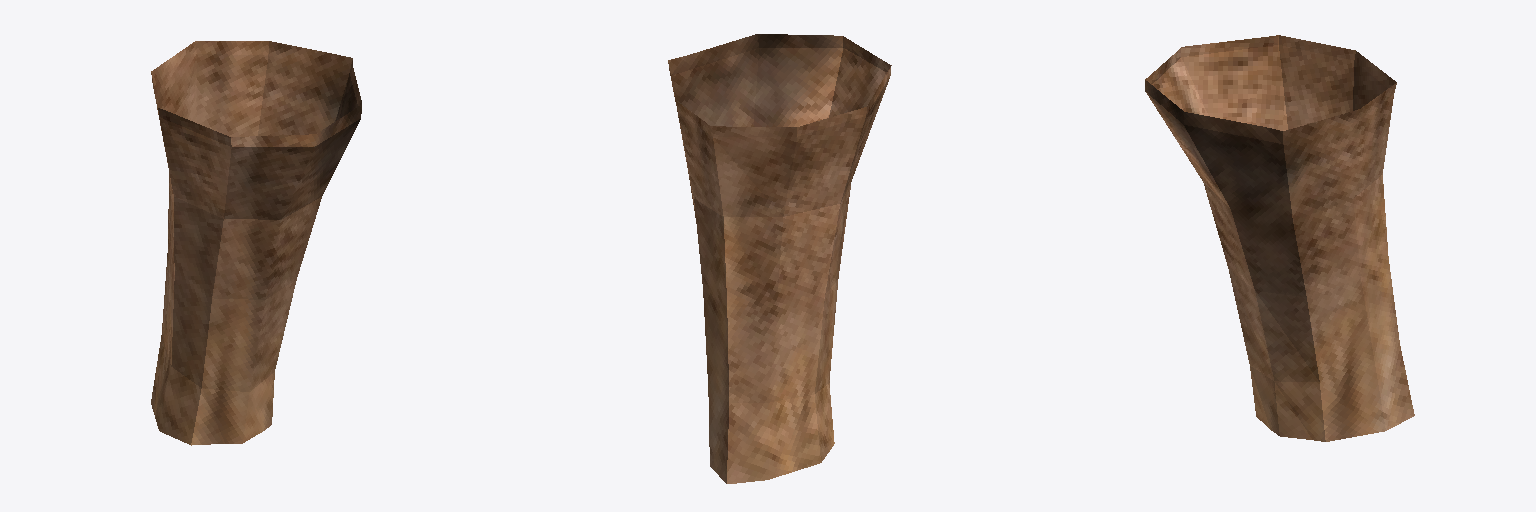
The picture shows the model from 3 angles: view 1: azimuth 30°, elevation 25°; view 2: azimuth 150°, elevation 25°; view 3: azimuth 270°, elevation 25°; orthographic projection.
Visible parts, largest first — view 1: TL_Rodilla; view 2: TL_Rodilla; view 3: TL_Rodilla.
Boxes of the visible parts, box(x1,y1,x2,y2) form: TL_Rodilla: box(151, 41, 361, 445); TL_Rodilla: box(668, 34, 891, 483); TL_Rodilla: box(1145, 35, 1414, 441).
Size of the model in its own units: 0.244 by 0.4092 by 0.2894.
1 materials, 1 textured.